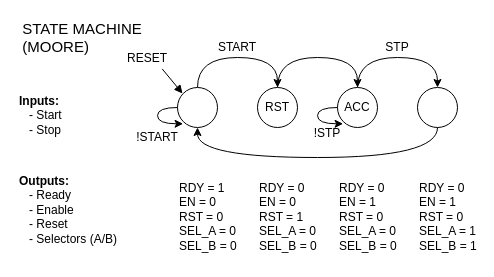
Some shapes in this 494 by 277 pixel diagram are drawn without their labels. The centre of each missing label's shape, as x and y in pixels:
DIV: (x=437, y=107)
IDLE: (x=197, y=107)
